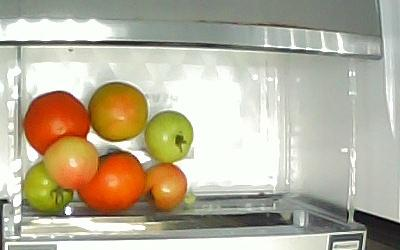tomato: (24, 90, 91, 155), (76, 150, 145, 213), (89, 80, 148, 142), (44, 135, 99, 190), (24, 160, 74, 215), (145, 110, 193, 163), (143, 163, 188, 212)
